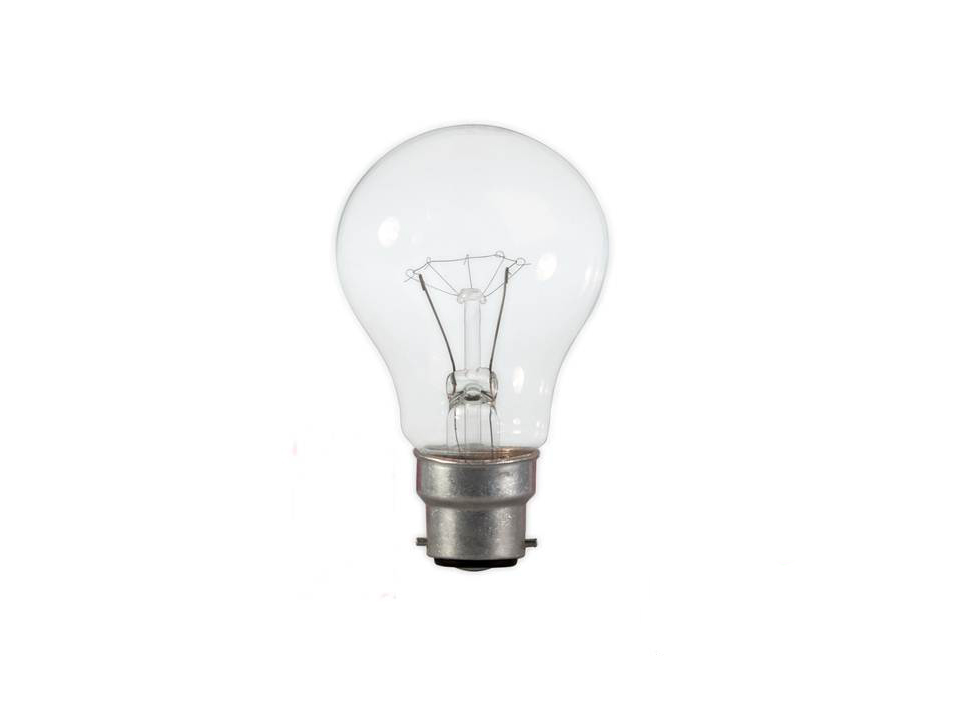Light_bulb: (329, 116, 621, 588)
